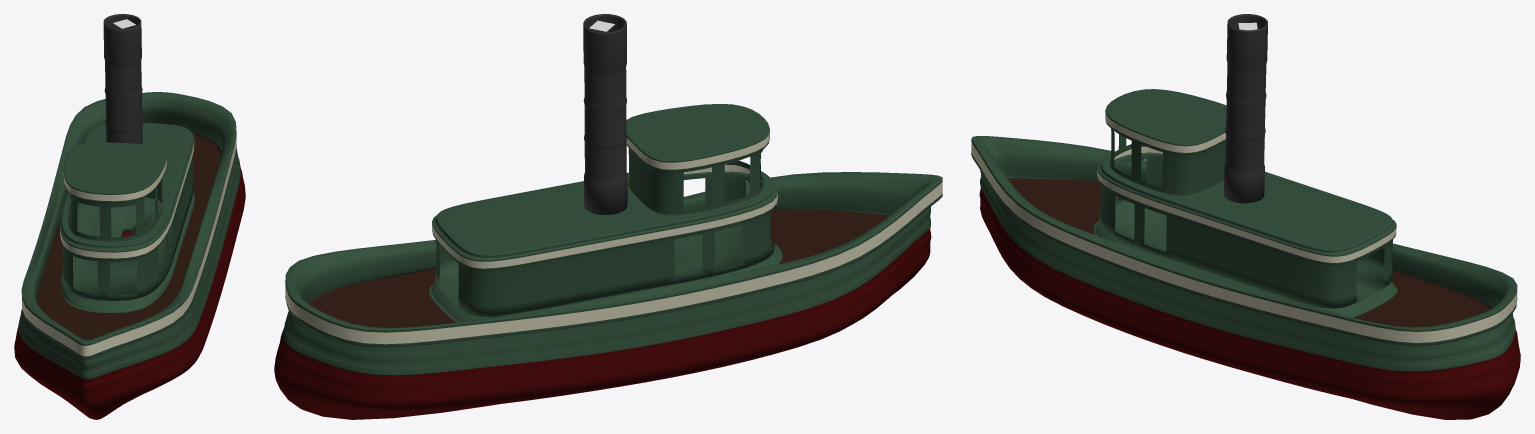
The model's file is bote.glb.
3 renders of one model, left to right at view 1: azimuth 30°, elevation 25°; view 2: azimuth 150°, elevation 25°; view 3: azimuth 270°, elevation 25°, orthographic. The views are drawn at different scales.
Parts seen in each view (by area): view 1: Object_2, Object_5, Object_6, Object_4, Object_3; view 2: Object_2, Object_5, Object_3, Object_6, Object_4; view 3: Object_2, Object_5, Object_3, Object_4, Object_6.
Part boxes in pixels (x1,y1,x2,y2): Object_2: (18, 92, 240, 379); Object_5: (14, 166, 245, 419); Object_6: (36, 132, 221, 340); Object_4: (103, 14, 142, 143); Object_3: (21, 135, 236, 356); Object_2: (284, 104, 942, 375); Object_5: (274, 227, 931, 419); Object_3: (285, 130, 942, 344); Object_6: (308, 209, 888, 327); Object_4: (583, 14, 627, 214); Object_2: (971, 89, 1517, 371); Object_5: (979, 186, 1520, 419); Object_3: (971, 112, 1517, 342); Object_4: (1223, 14, 1267, 203); Object_6: (1007, 178, 1492, 327).
Size of the model in its own units: 12.18 by 10.27 by 15.03.
